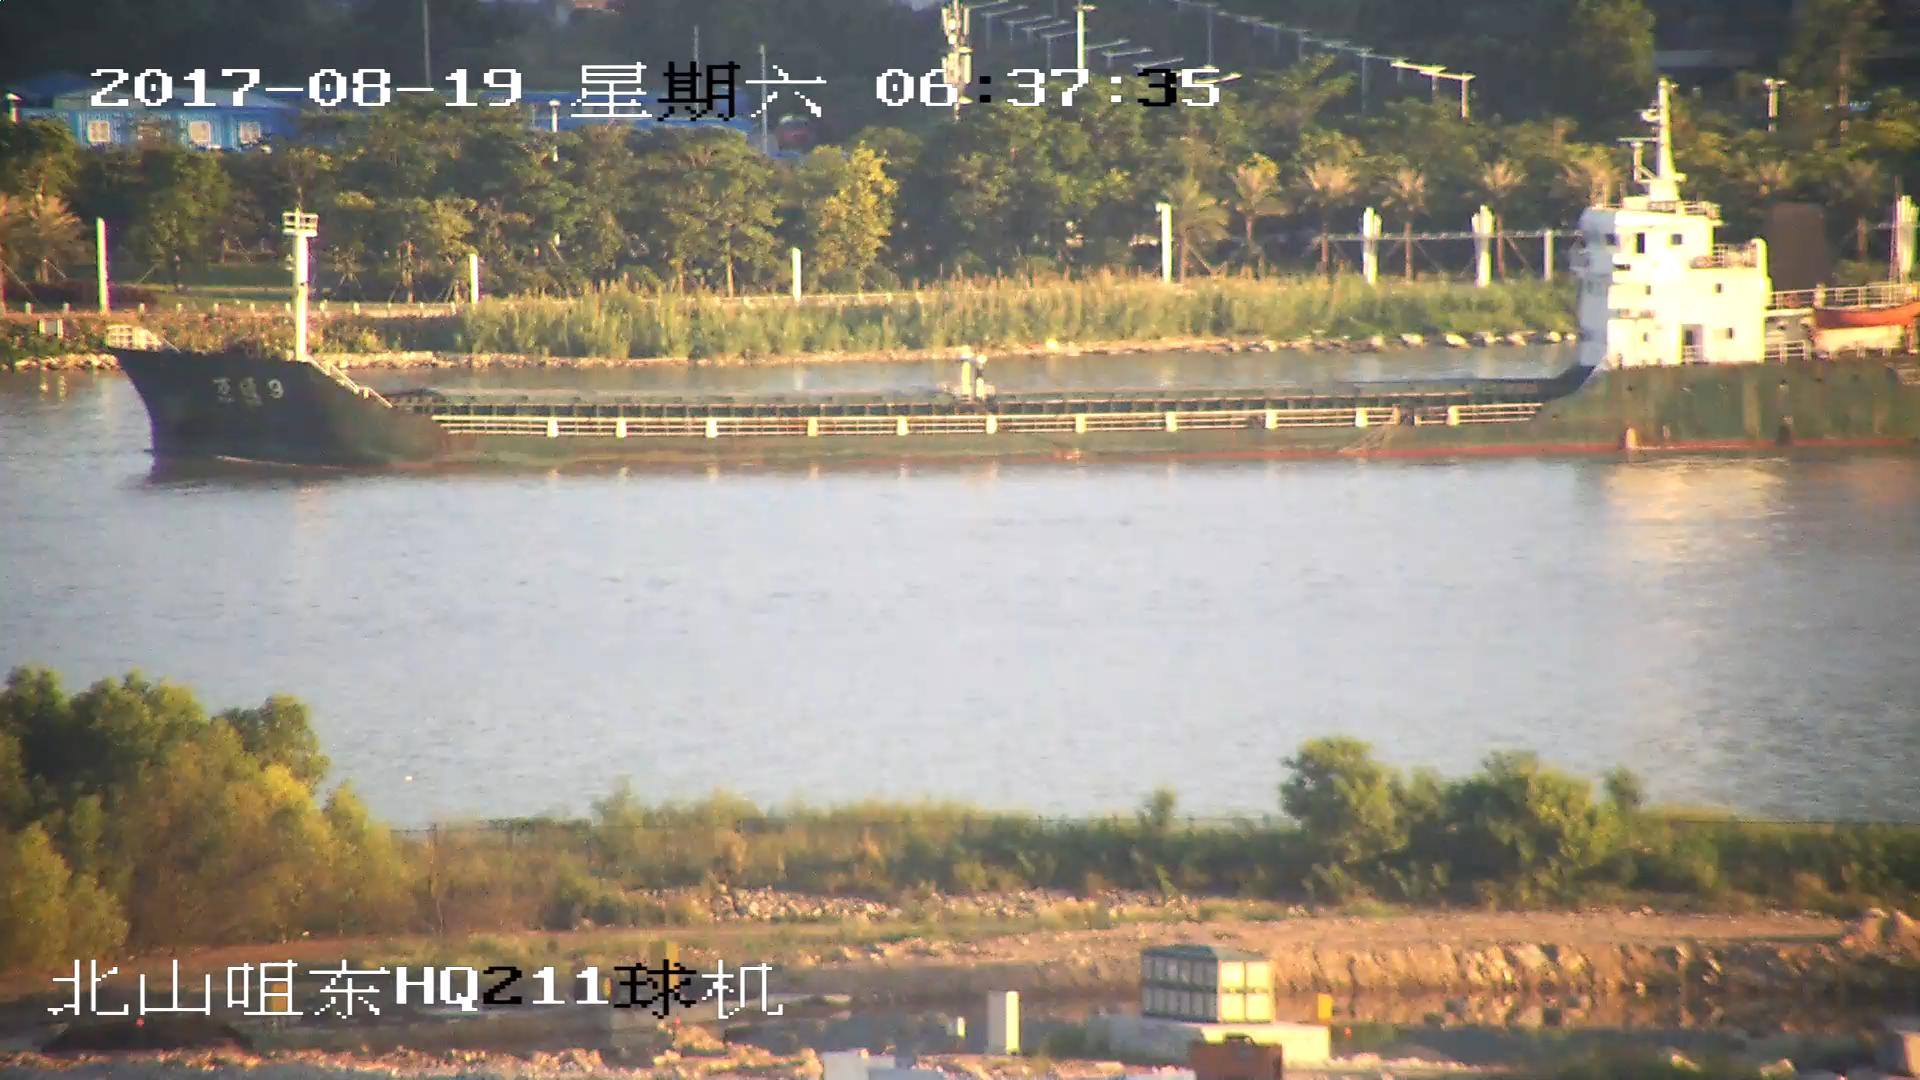general cargo ship: (104, 116, 1920, 462)
